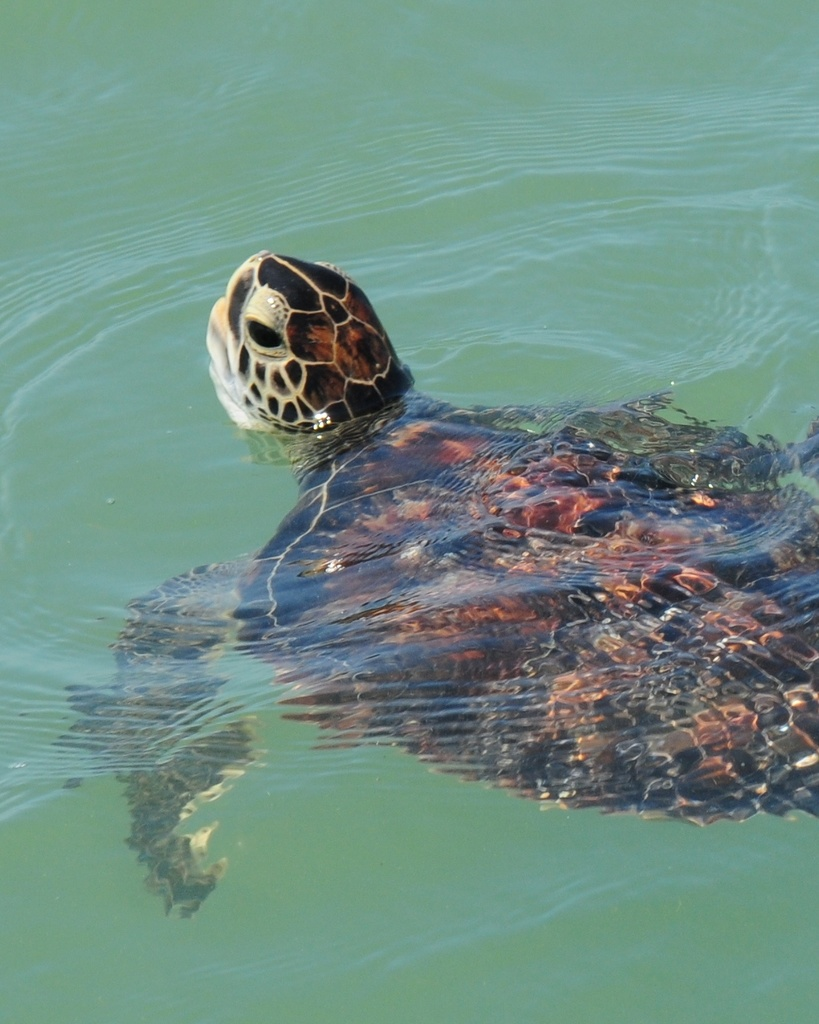Sea turtles: (66, 253, 818, 916)
